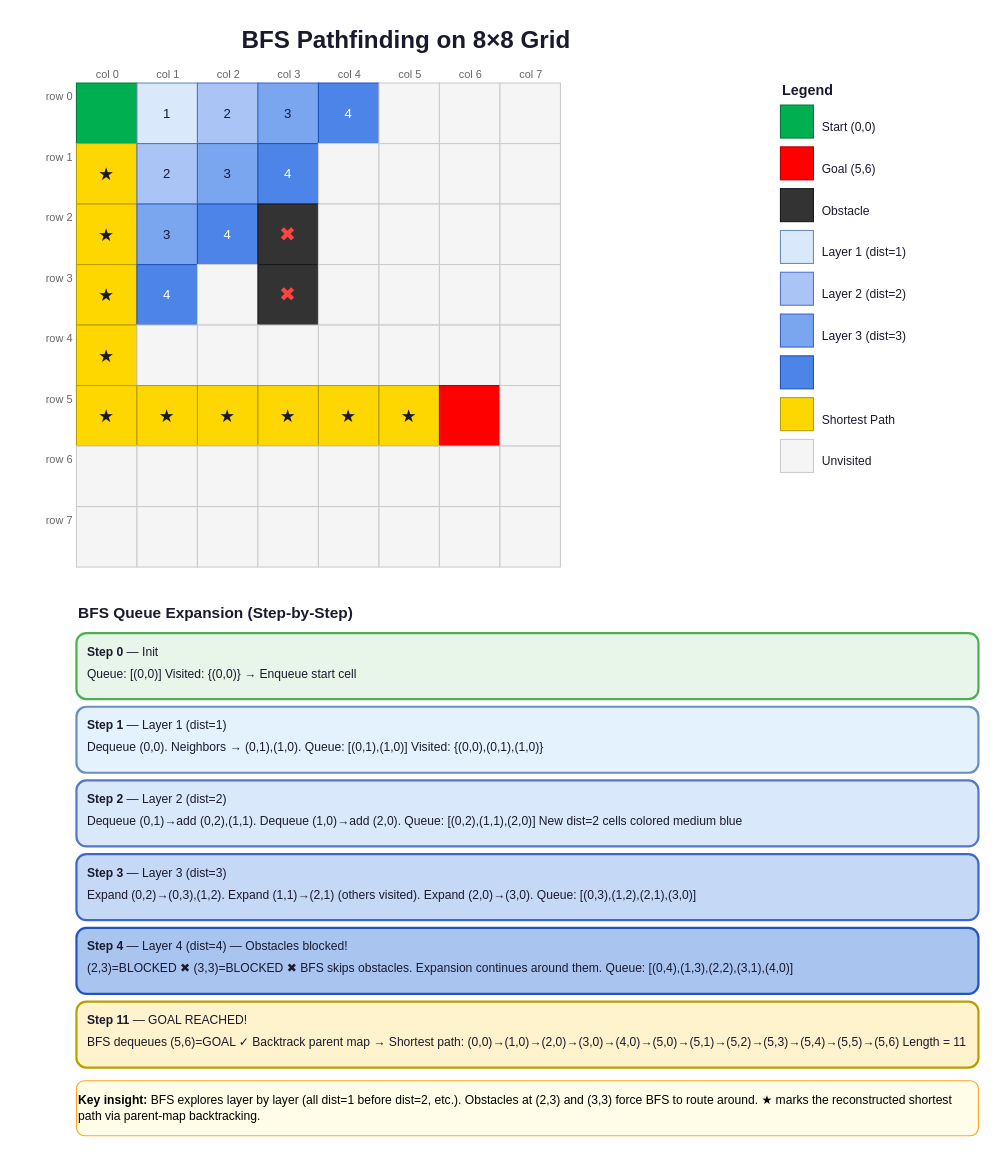
Image size: 998x1155. Some labels were removed from this diagram. Here are the shapes that lost their labels. From the top down, the box of each, then its label:
(75, 82, 137, 144): S 0,0
(438, 384, 500, 446): G 5,6
